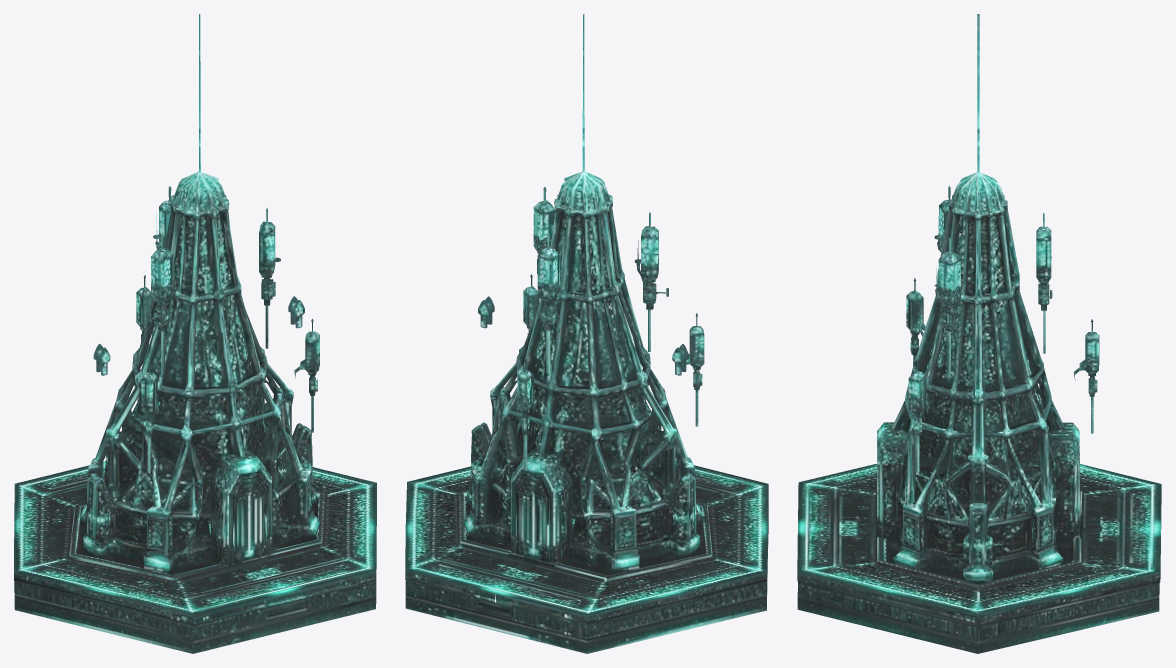
The model's file is hutte_v1.glb.
The picture shows the model from 3 angles, left to right: view 1: azimuth 30°, elevation 25°; view 2: azimuth 150°, elevation 25°; view 3: azimuth 270°, elevation 25°; orthographic projection.
Parts seen in each view (by area): view 1: tripo_node_a19bb213-d9bc-4eee-8f2c-37e6f9ebd89f; view 2: tripo_node_a19bb213-d9bc-4eee-8f2c-37e6f9ebd89f; view 3: tripo_node_a19bb213-d9bc-4eee-8f2c-37e6f9ebd89f.
Part boxes in pixels (x1,y1,x2,y2): tripo_node_a19bb213-d9bc-4eee-8f2c-37e6f9ebd89f: (14,14,376,653); tripo_node_a19bb213-d9bc-4eee-8f2c-37e6f9ebd89f: (405,14,768,653); tripo_node_a19bb213-d9bc-4eee-8f2c-37e6f9ebd89f: (797,14,1161,653).
Size of the model in its own units: 0.686 by 0.9995 by 0.5952.
Materials: 1 (1 with a texture image).
